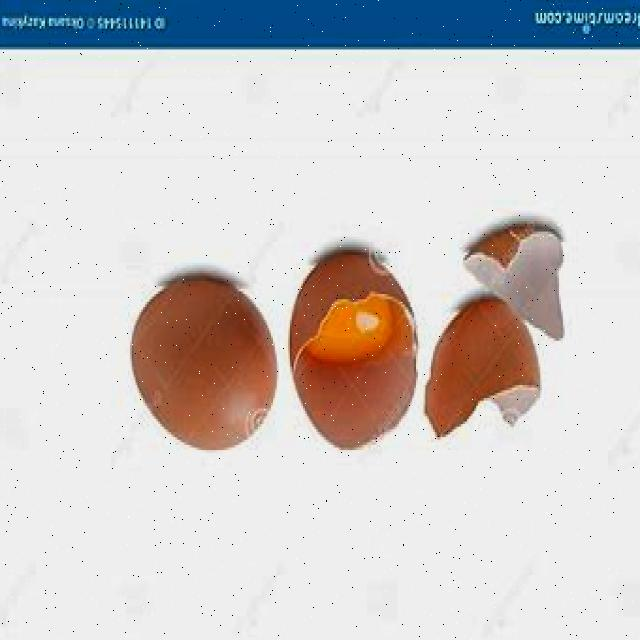Brown Egg: (108, 260, 276, 462)
